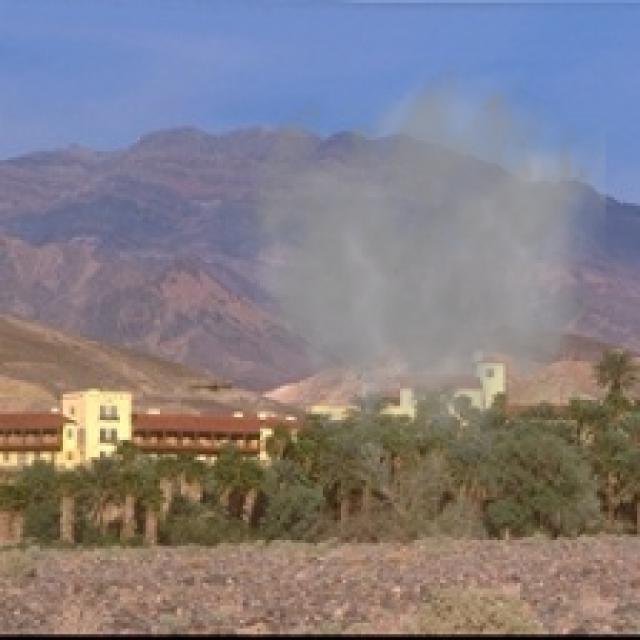Smoke: (214, 57, 606, 472)
